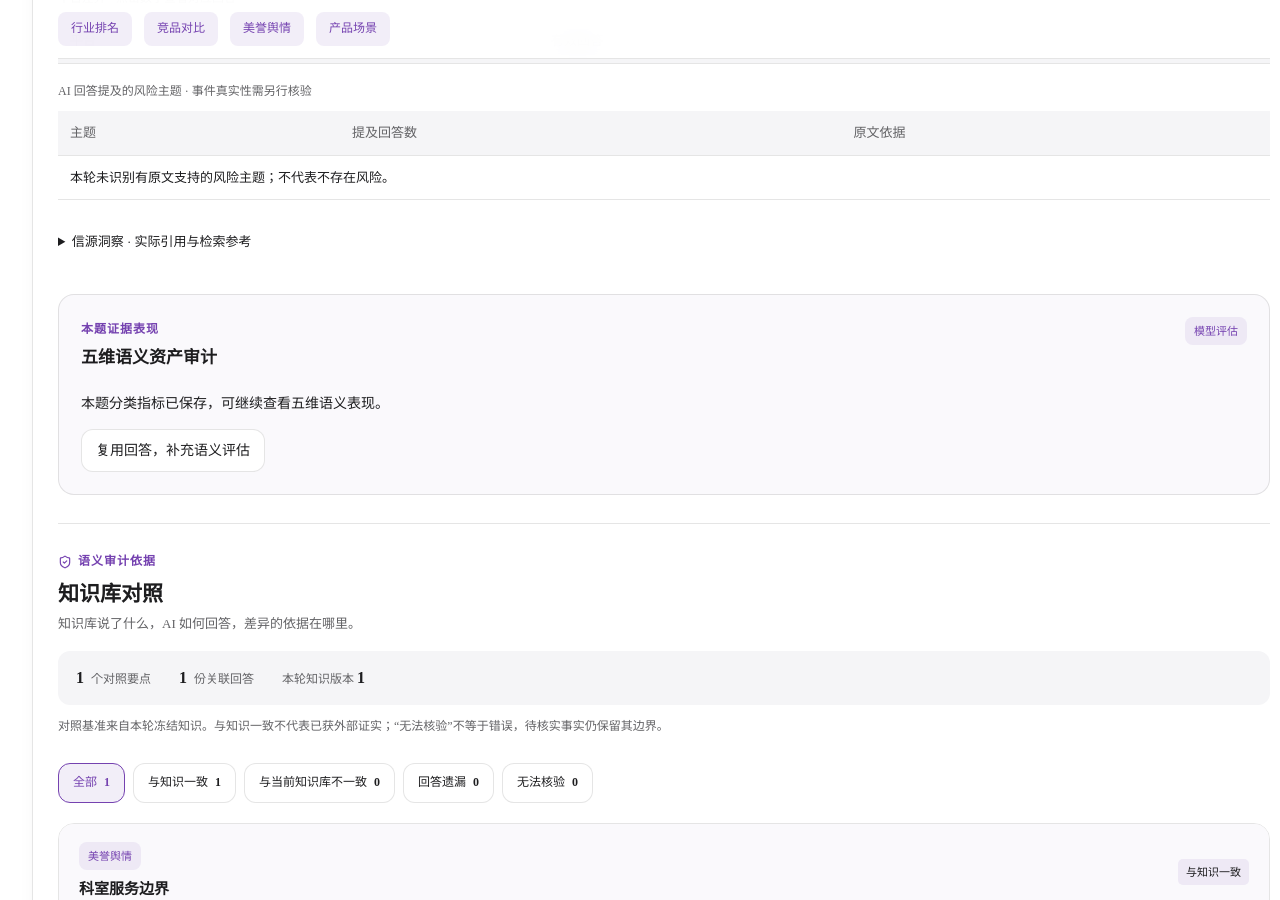
Test: single-page diagnostic interaction › adds only a semantic audit to saved answers and can stop it after the old task completed
(page scrolled)
Click the button "复用回答，补充语义评估" at x=173, y=450, box [81,429,265,472]
(page scrolled)
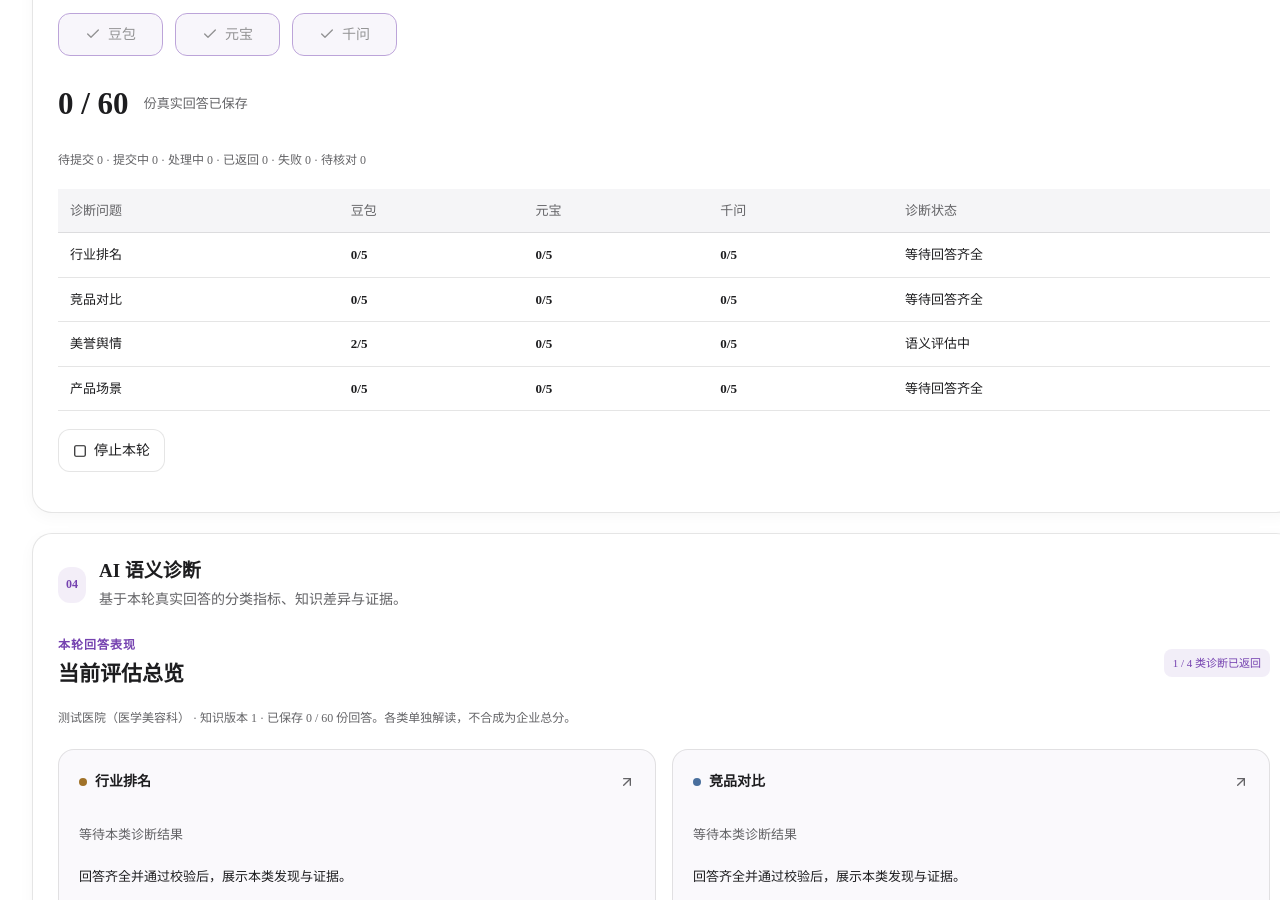
expect the button "停止本轮" is shown: met, box [58,429,165,472]
